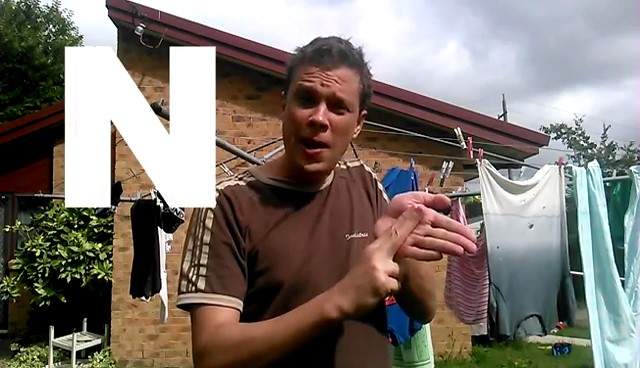N: (340, 188, 484, 321)
